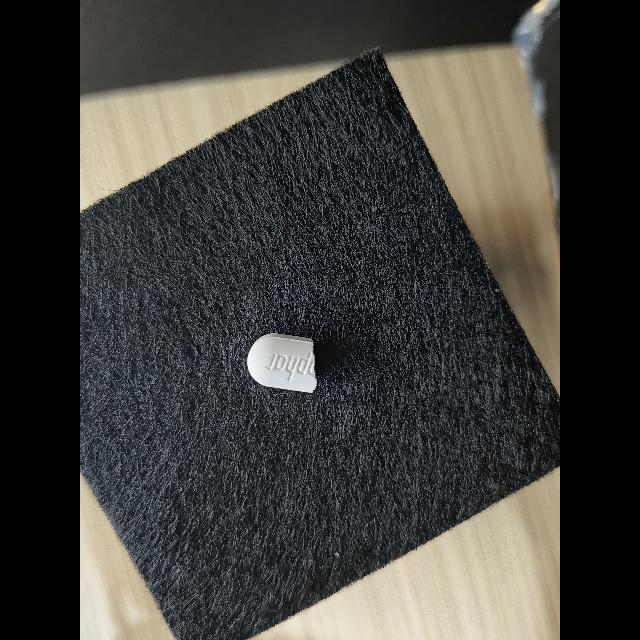Chipped Pill: (247, 333, 317, 393)
